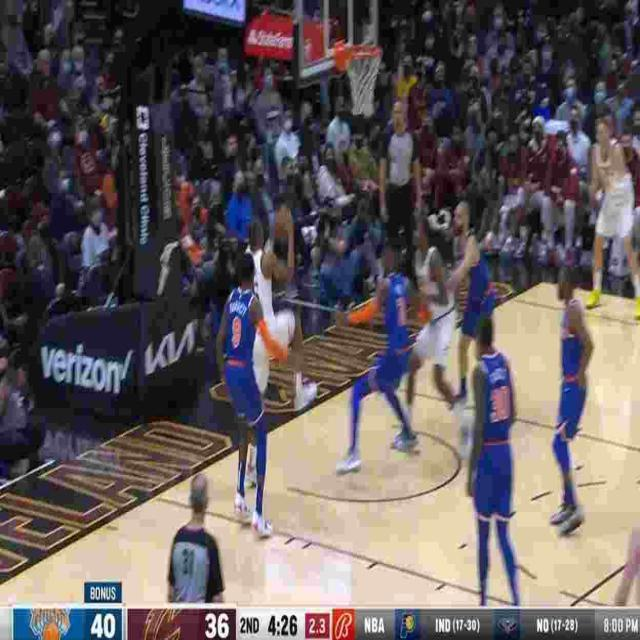rim: (273, 206, 293, 241)
